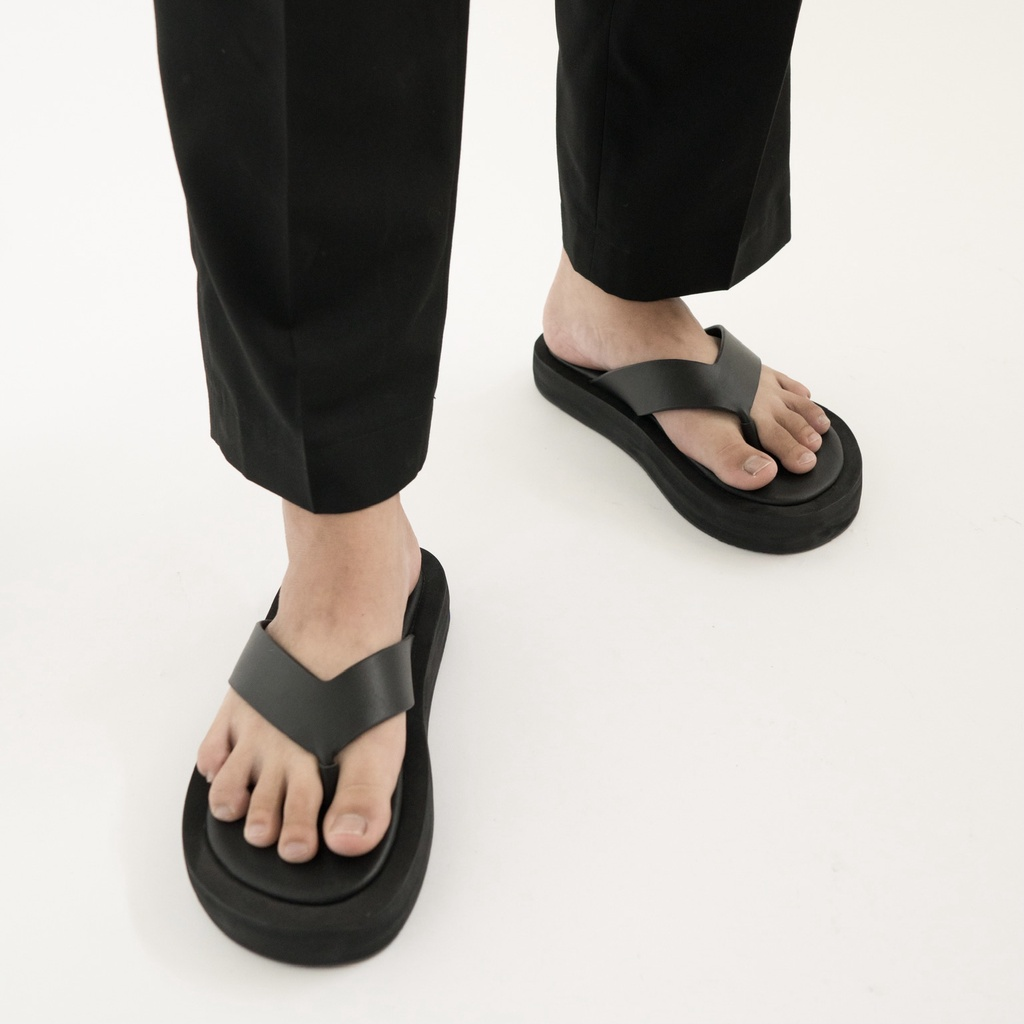flip_flops: (179, 550, 454, 971), (528, 317, 862, 558)
